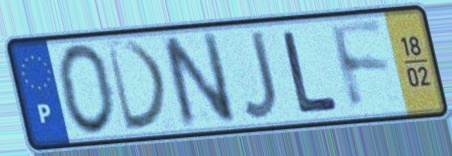D: (102, 38, 172, 135)
F: (325, 19, 395, 116)
J: (238, 27, 281, 123)
L: (279, 28, 342, 116)
N: (156, 28, 240, 132)
O: (55, 41, 118, 139)
